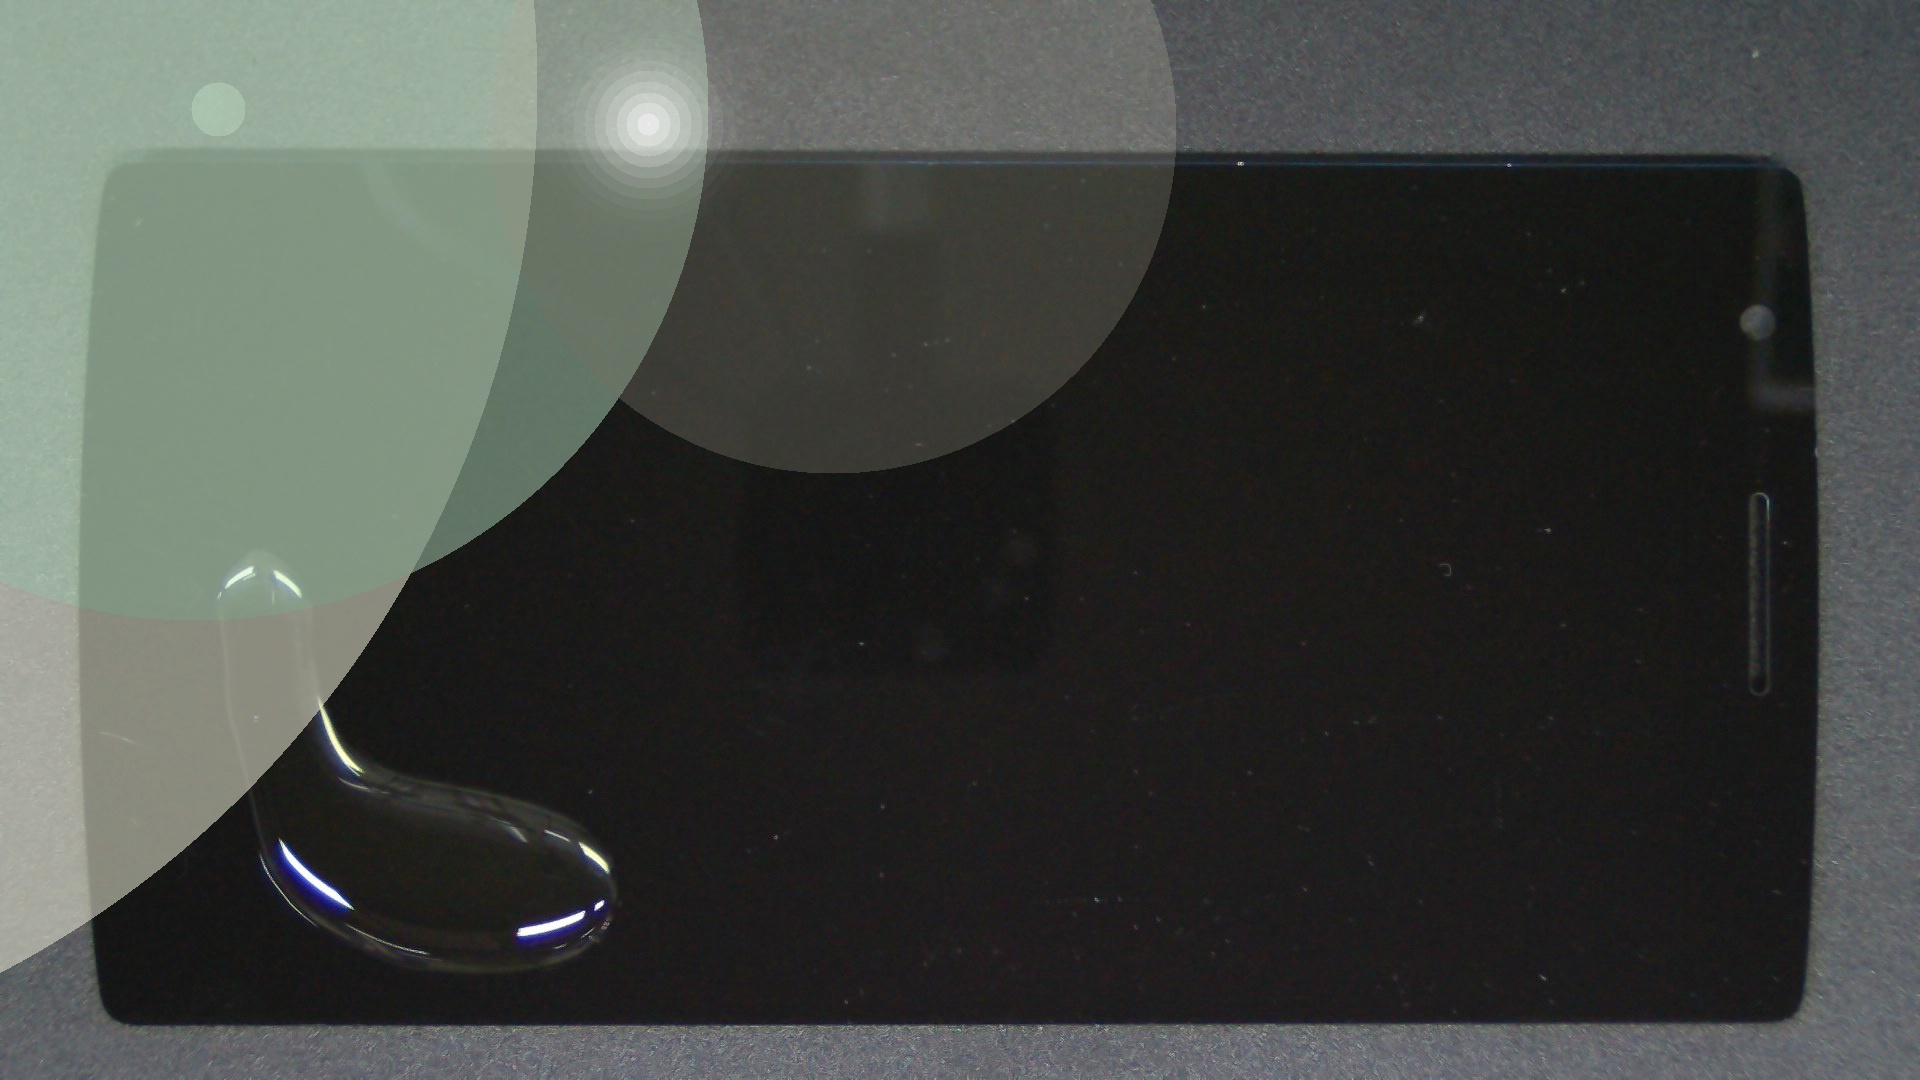oil: (128, 274, 381, 824)
